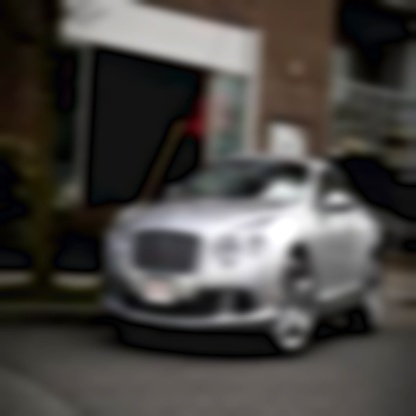Vehicle: (98, 152, 386, 357)
